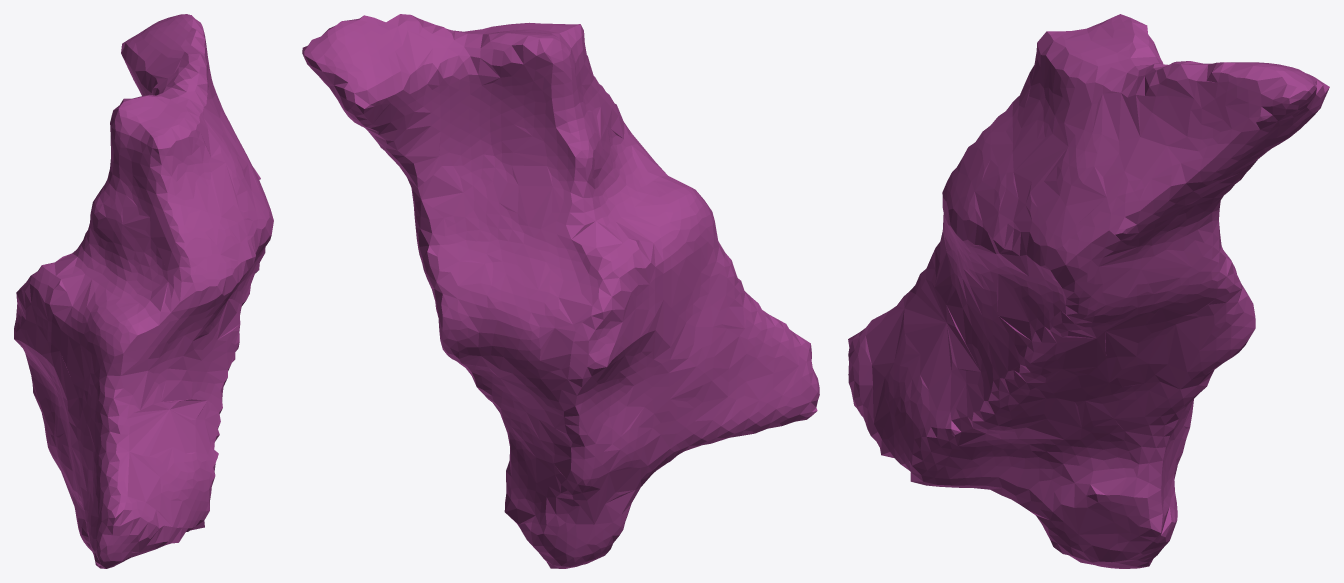
File: Model_92_RH__Granular_insular_cortex_(GI).obj
The picture shows the model from 3 angles, left to right: view 1: azimuth 30°, elevation 25°; view 2: azimuth 150°, elevation 25°; view 3: azimuth 270°, elevation 25°; orthographic projection. The views are drawn at different scales.
Size of the model in its own units: 2.53 by 4.19 by 3.09.
